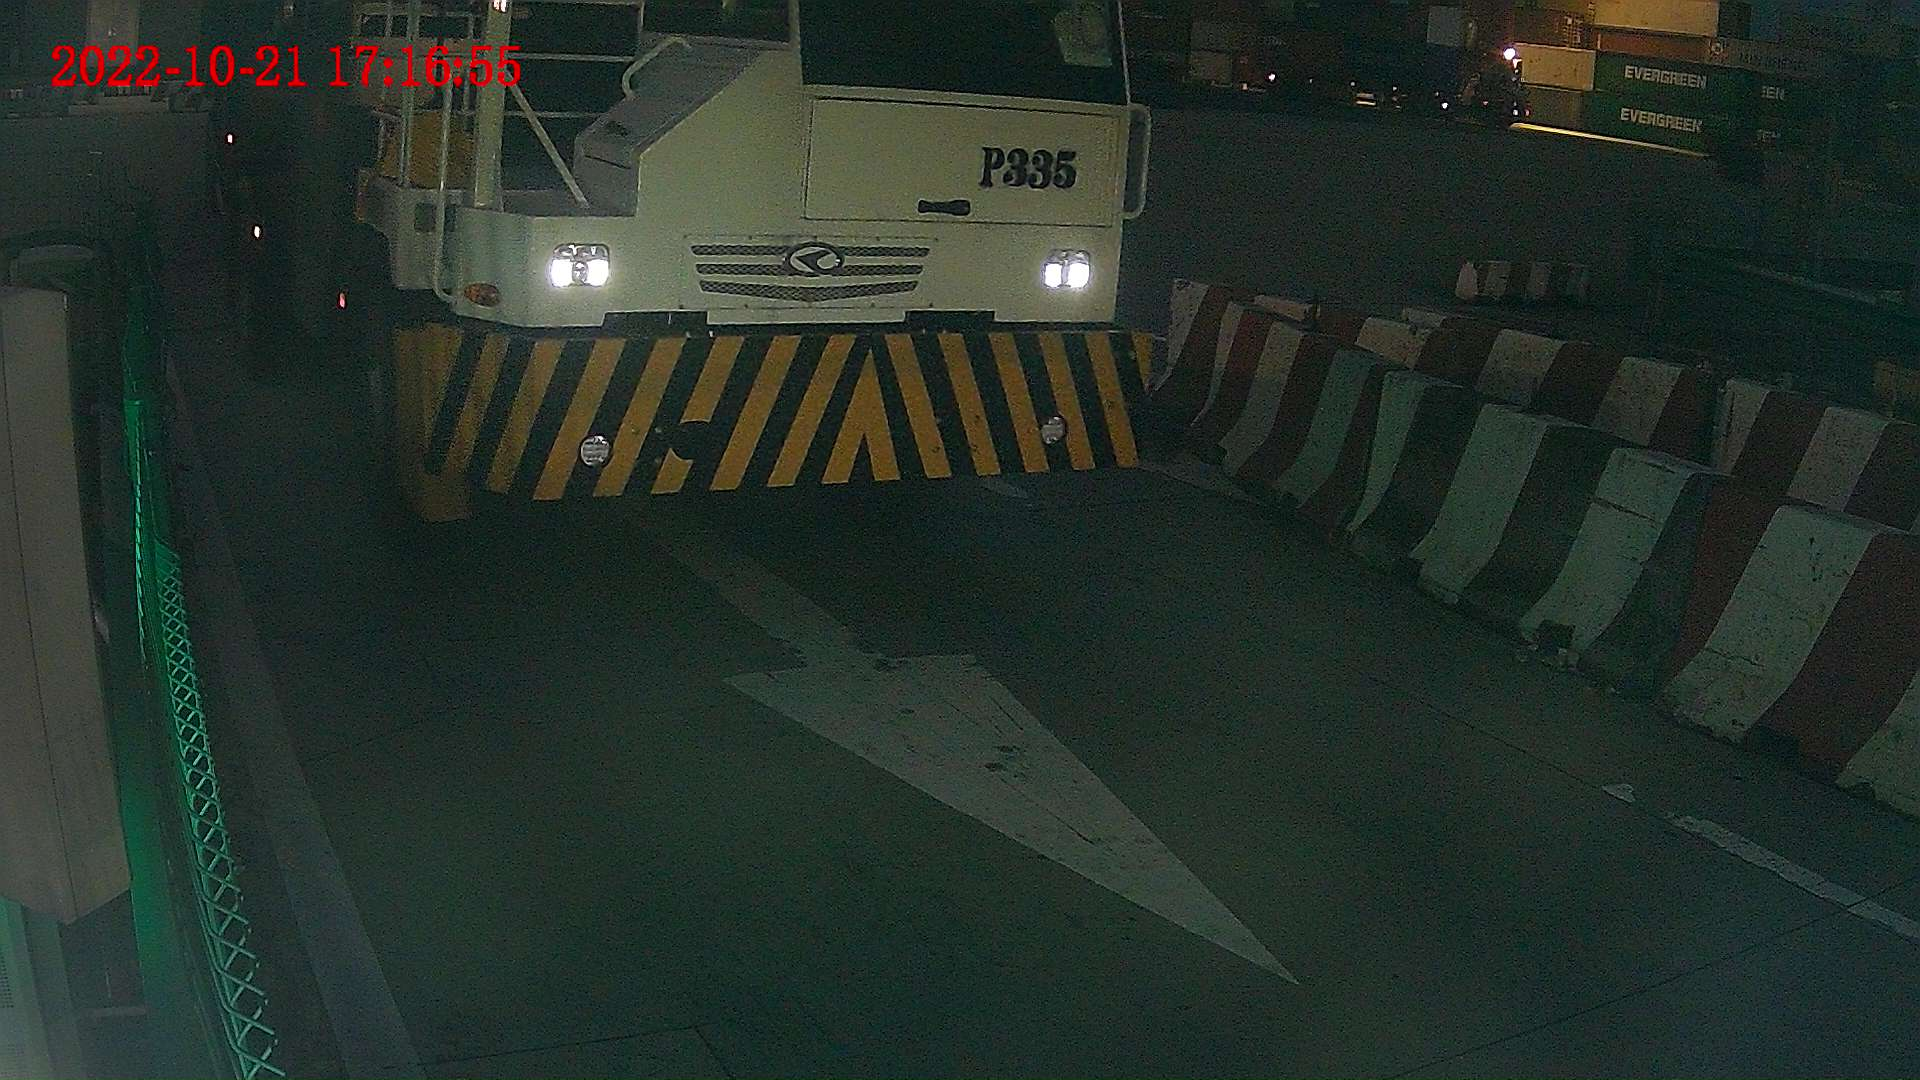head: (311, 1, 1156, 531)
